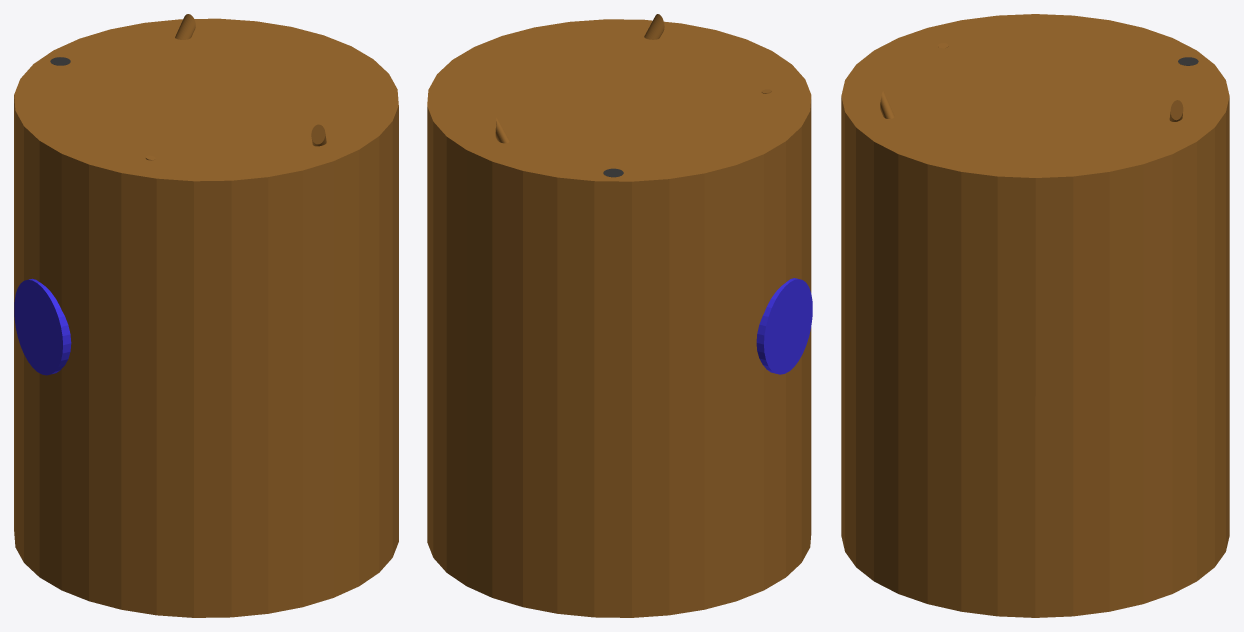
The model's file is Submarine_1.fbx.
3 views of the same model, side by side, from view 1: azimuth 30°, elevation 25°; view 2: azimuth 150°, elevation 25°; view 3: azimuth 270°, elevation 25° (orthographic).
Visible parts, largest first — view 1: Submarine_Body, Window_Glass; view 2: Submarine_Body, Window_Glass; view 3: Submarine_Body.
Boxes of the visible parts, x1,y1,x2,y2 form: Submarine_Body: (14, 18, 398, 617); Window_Glass: (14, 278, 71, 375); Submarine_Body: (427, 19, 811, 617); Window_Glass: (756, 278, 812, 374); Submarine_Body: (841, 14, 1229, 617).
Bounding box in the file's own units: 202 × 263 × 200.
